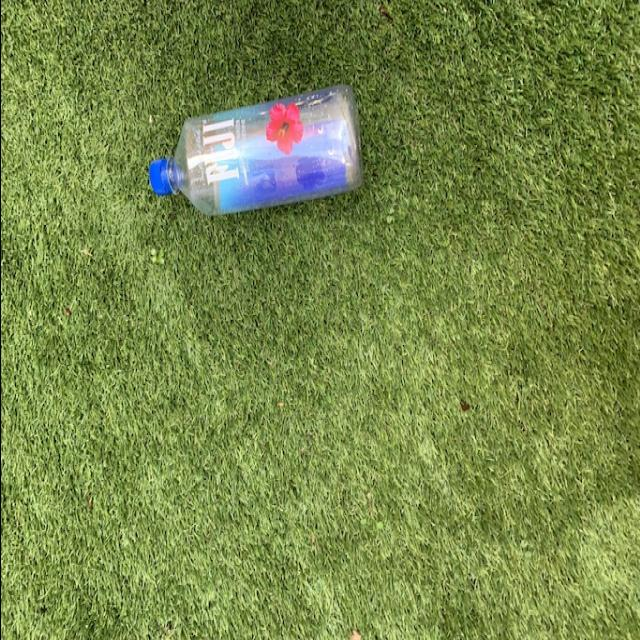litter: (146, 84, 364, 222)
